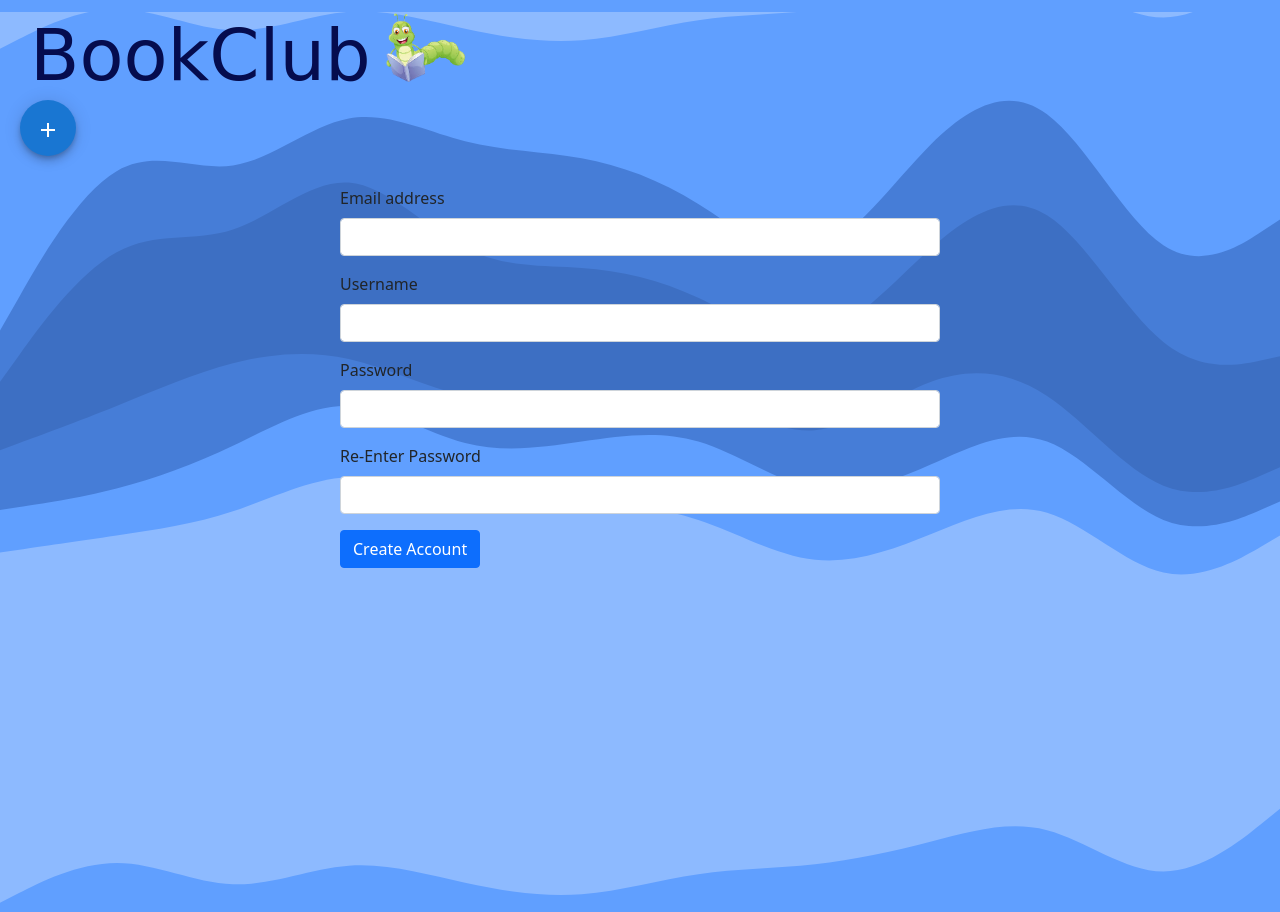
Test: signup persists session and reaches preferences
Type "reader@example.com" into the field labelled "Email address". click: [640, 237]
box: [340,218,940,256]
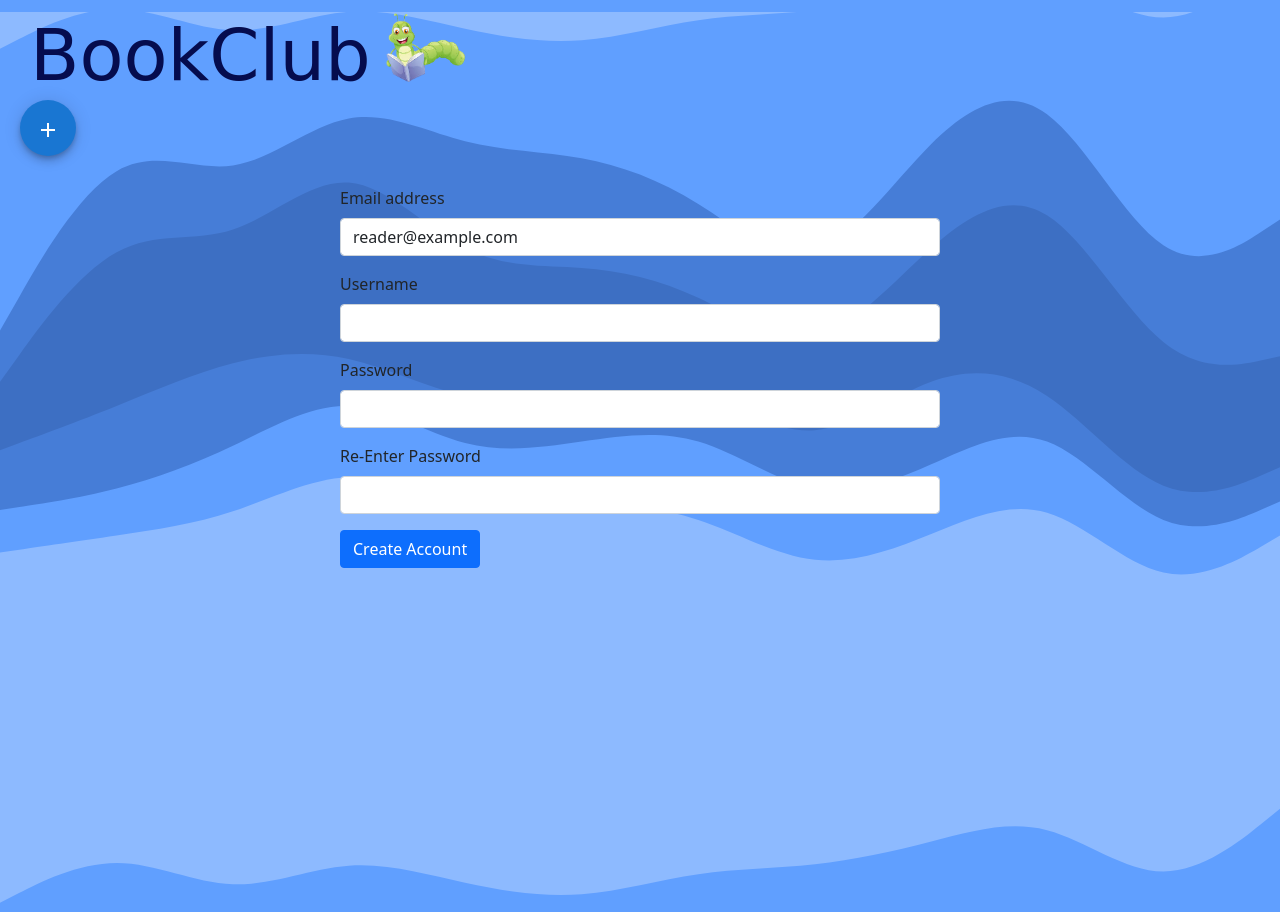
Type "reader1" into the field labelled "Username". click: [640, 323]
box: [340,304,940,342]
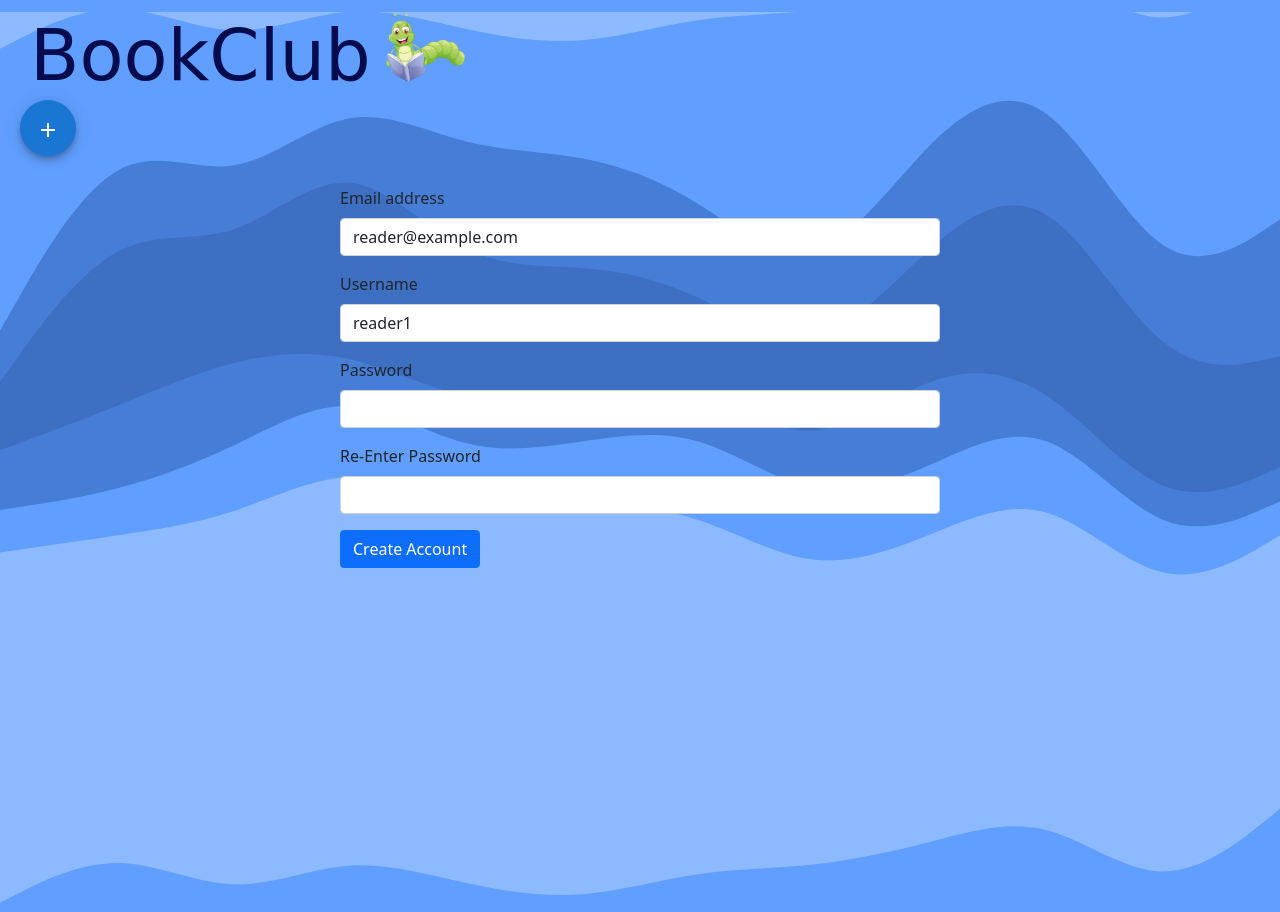
Type "GoodPassword1!" into the password field labelled "Password". click: [640, 409]
box: [340,390,940,428]
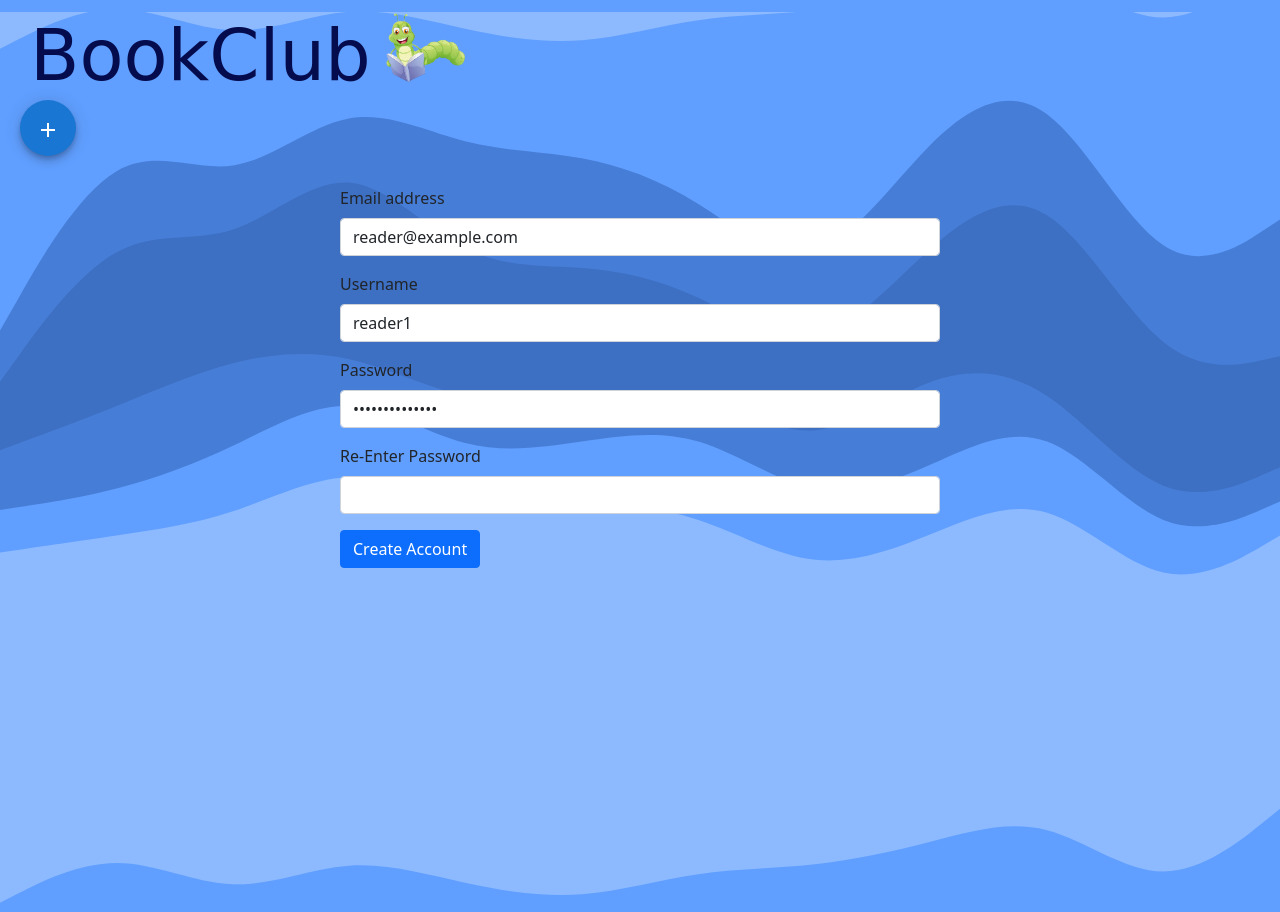
Type "GoodPassword1!" into the password field labelled "Re-Enter Password". click: [640, 495]
box: [340,476,940,514]
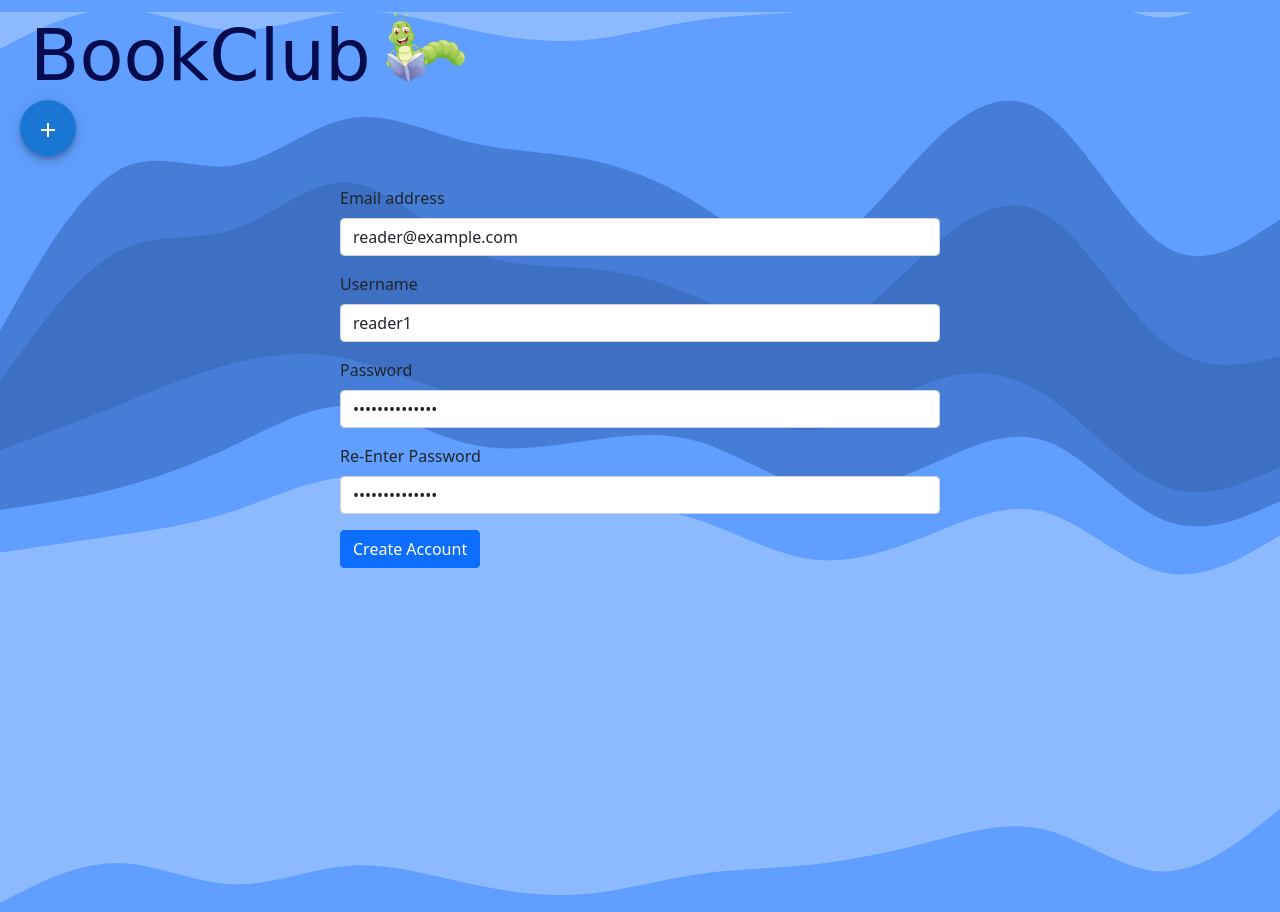
Click the button "Create Account". click: [410, 549]
box: [340,530,480,568]
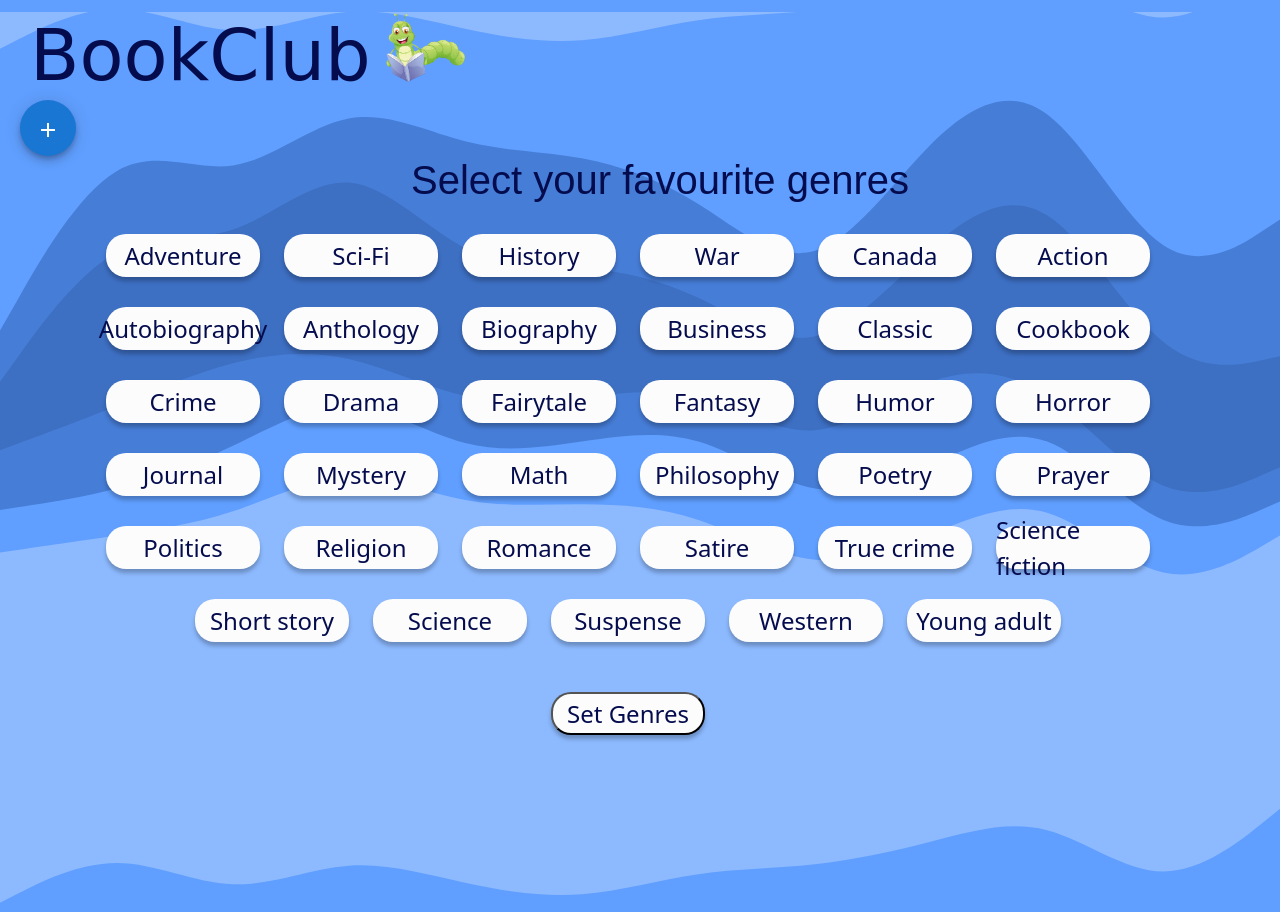
Expected: the heading "Select your favourite genres" is shown, [411,158,909,202]
